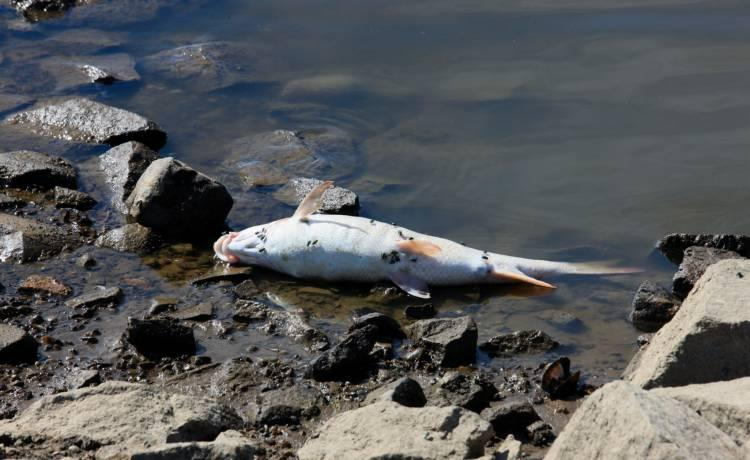Fish: (211, 194, 631, 307)
